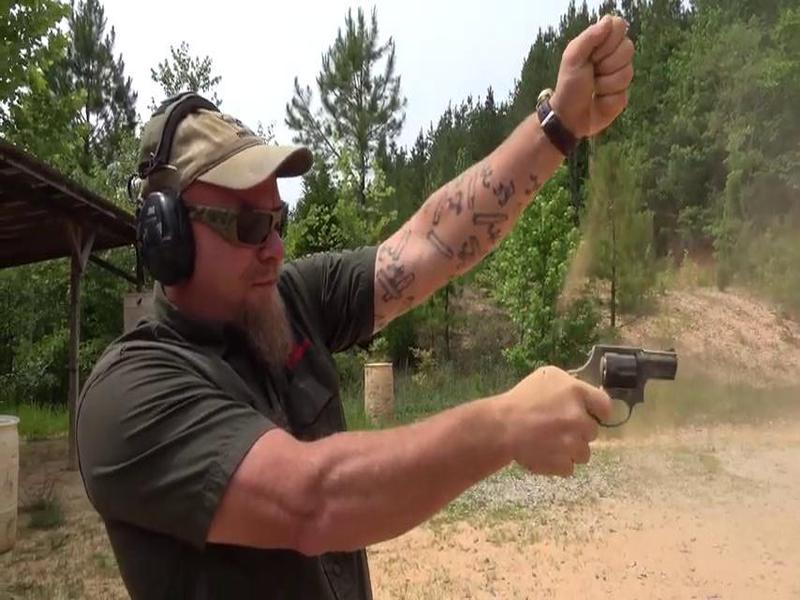Revolver: (556, 325, 693, 447)
